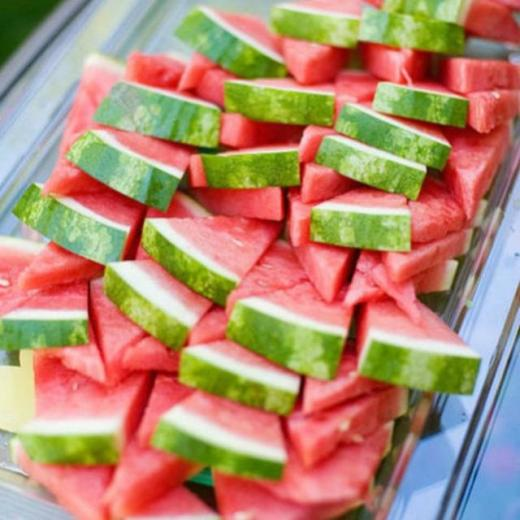Cherry: (0, 0, 519, 519), (132, 206, 273, 296)
